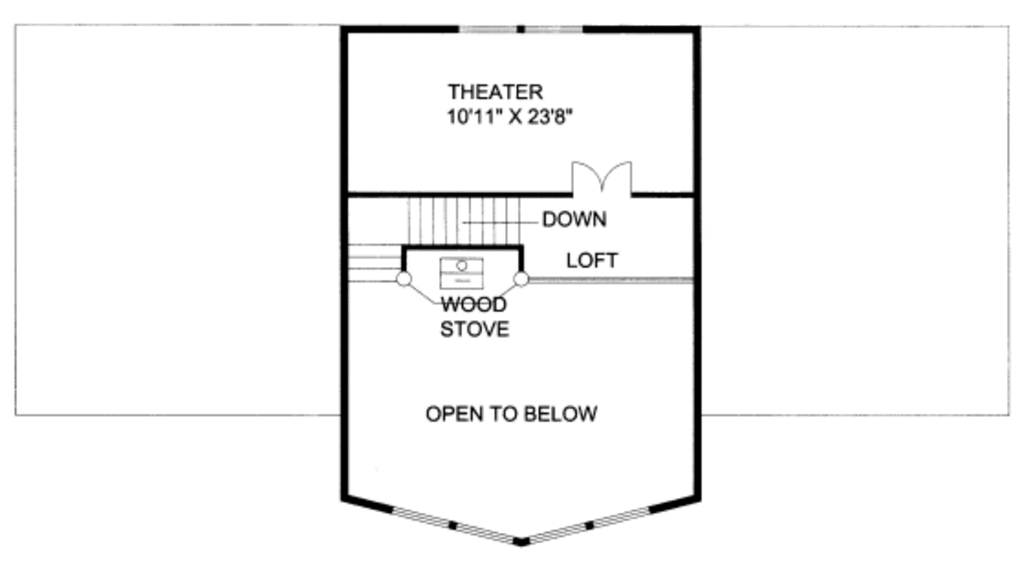door: (569, 155, 639, 200)
stairs: (350, 196, 544, 283)
window: (451, 23, 600, 37)
